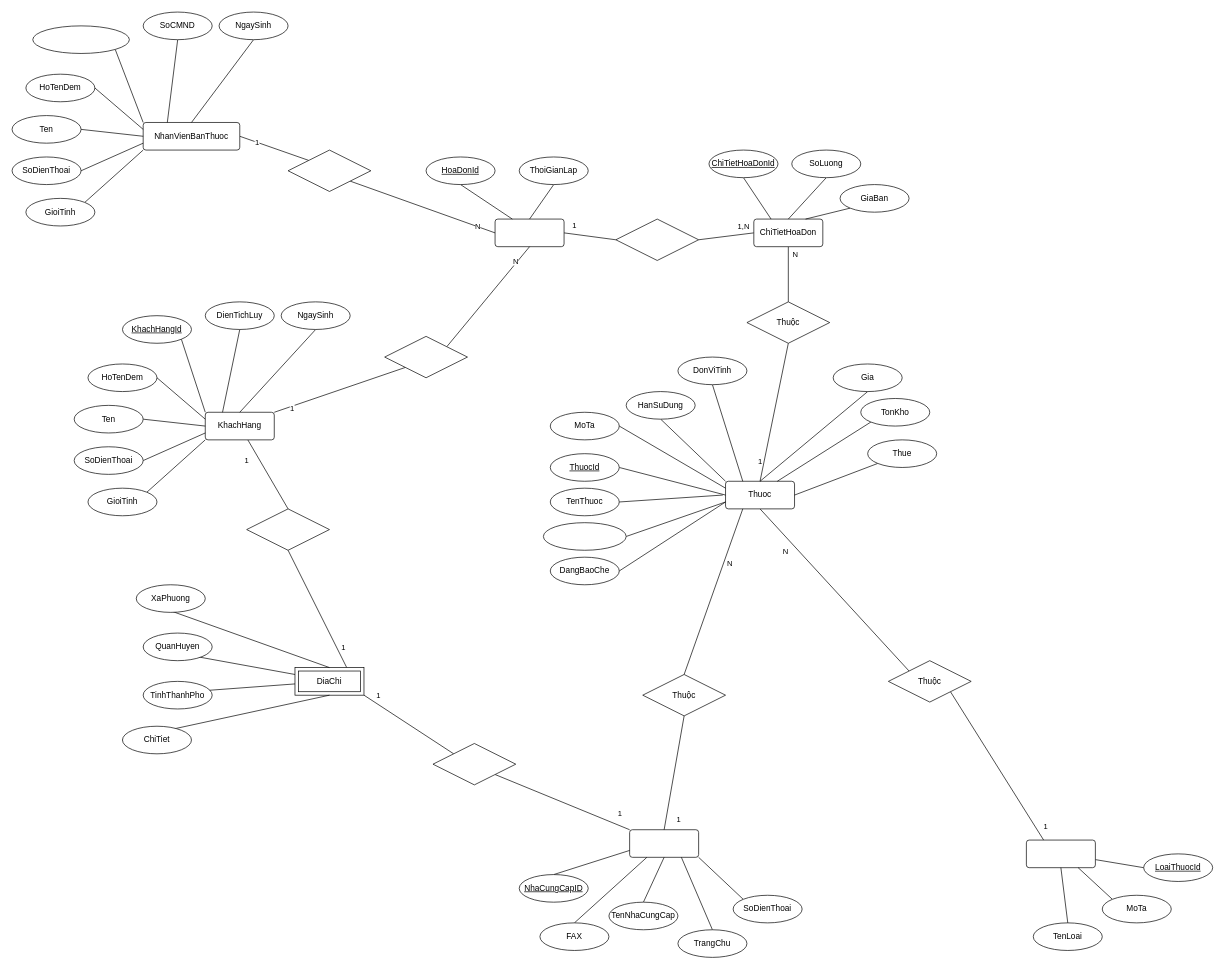
Image size: 1225x969. Some labels were removed from this diagram. The centre of each missing label's shape, as x and y in pixels:
"Chứa" belongs at point (657, 239).
"HoaDon" belongs at point (529, 232).
"LoaiThuoc" belongs at point (1060, 853).
"Mua" belongs at point (425, 357).
"NhaCungCap" belongs at point (664, 843).
"NhanVienBanHangId" belongs at point (80, 39).
"QuyCachDongGoi" belongs at point (584, 536).
"Quản Lý" belongs at point (329, 170).
"Sống tại" belongs at point (287, 529).
"Đặt Tại" belongs at point (474, 764).
